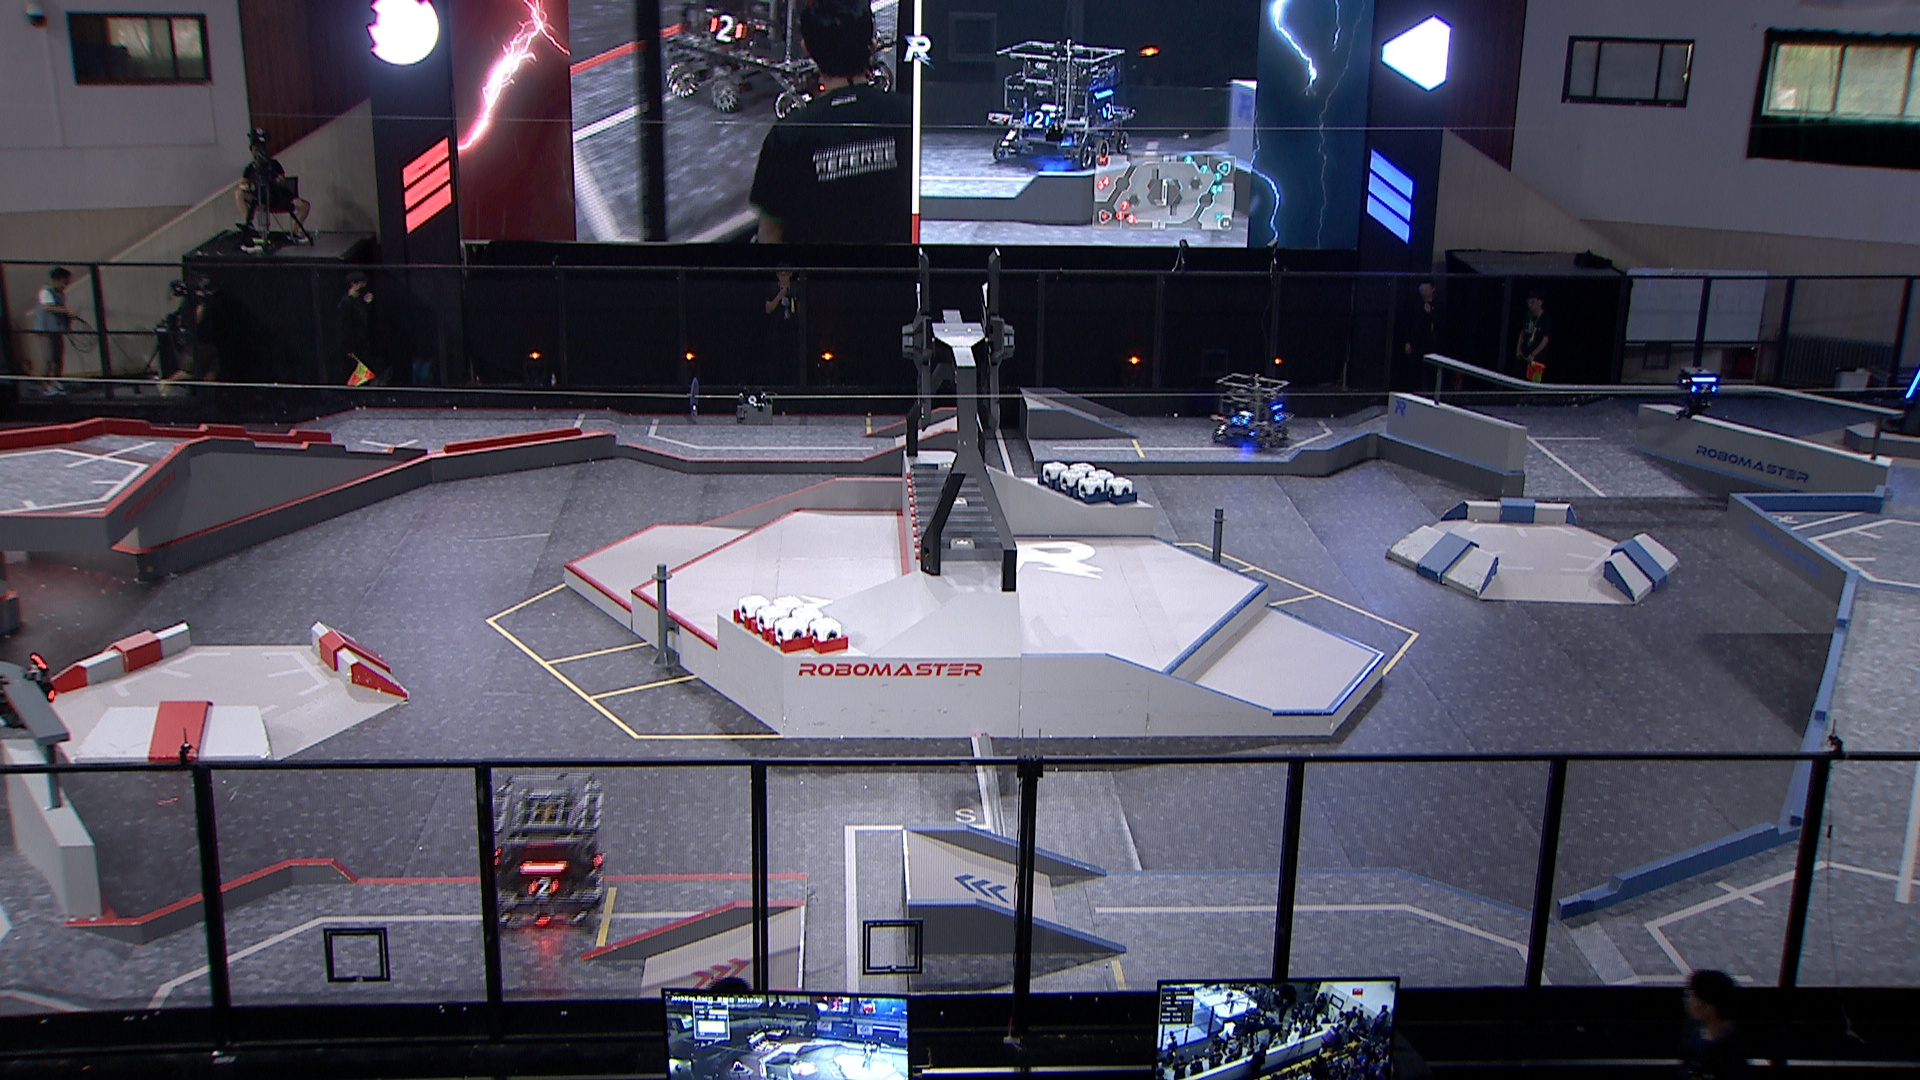armor: (527, 877, 560, 899), (1905, 371, 1920, 400), (1691, 384, 1718, 396), (1232, 415, 1250, 429), (1273, 411, 1287, 425)
base: (1882, 348, 1920, 442)
car: (480, 773, 605, 924), (1211, 371, 1292, 455)
ignore: (661, 1, 897, 125), (989, 40, 1138, 167)
watcher: (1673, 365, 1721, 422)
